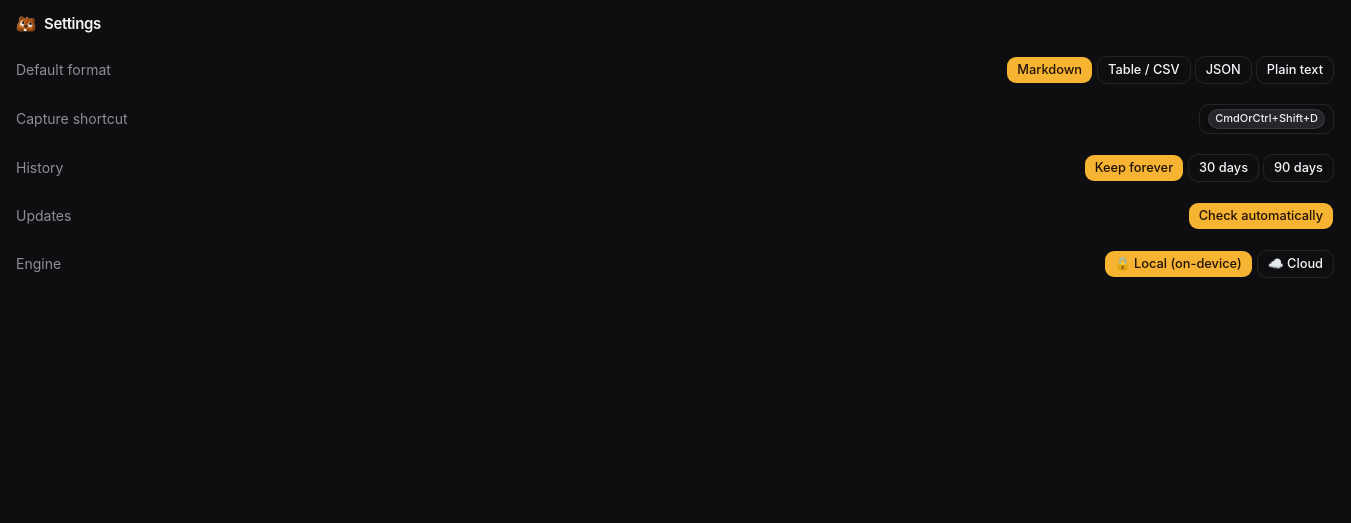
it: SettingsPanel › reveals the cloud fields once cloud is selected
Click the button "☁️ Cloud".
click(1295, 264)  # box [1257,250,1334,278]
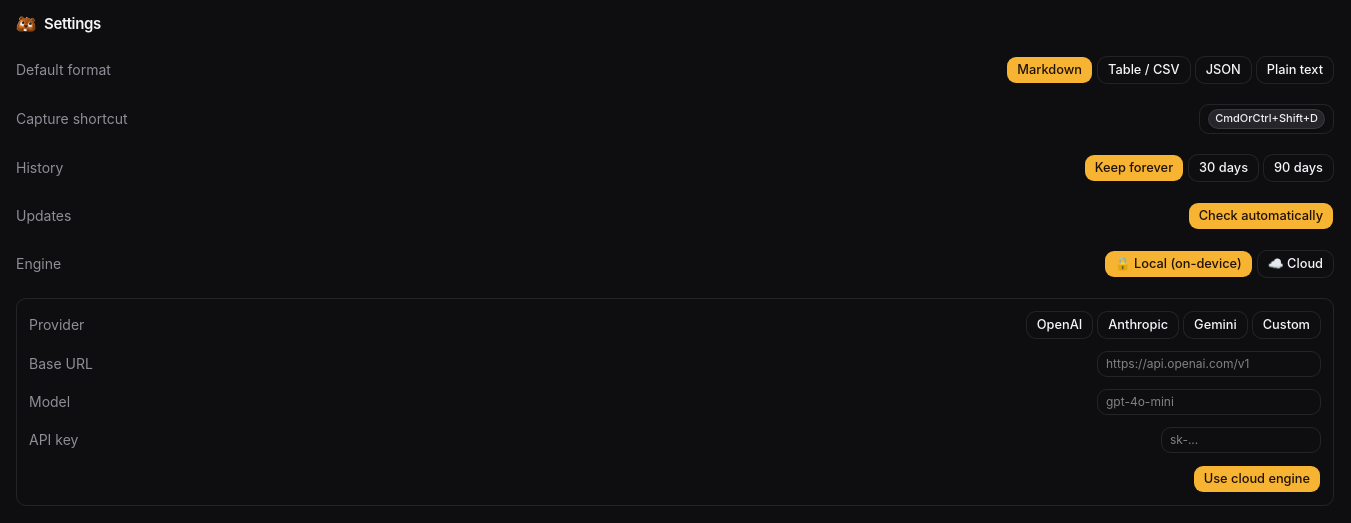
Expected: the field named "Base URL" is shown, [1097,350,1321,376]
Expected: the field named "Model" is shown, [1097,388,1321,414]
Expected: the password field named "API key" is shown, [1161,426,1321,452]
